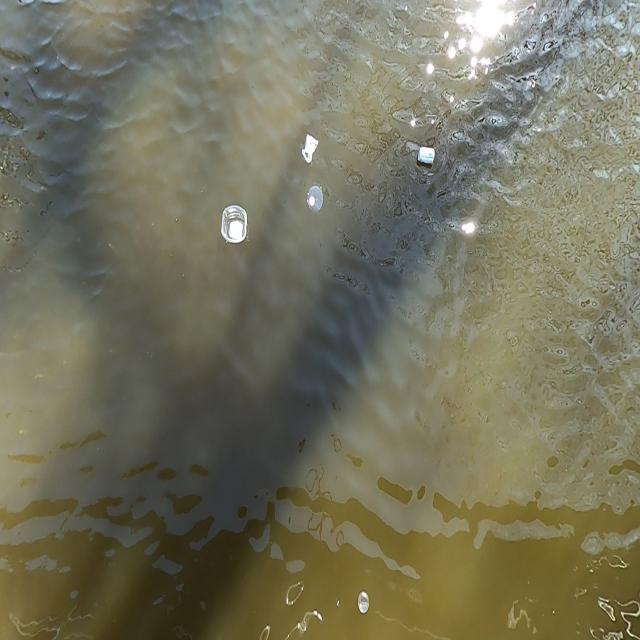Non plastique: (418, 144, 436, 168)
